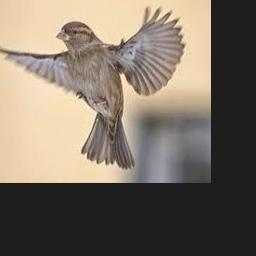Sparrow: (0, 6, 185, 169)
